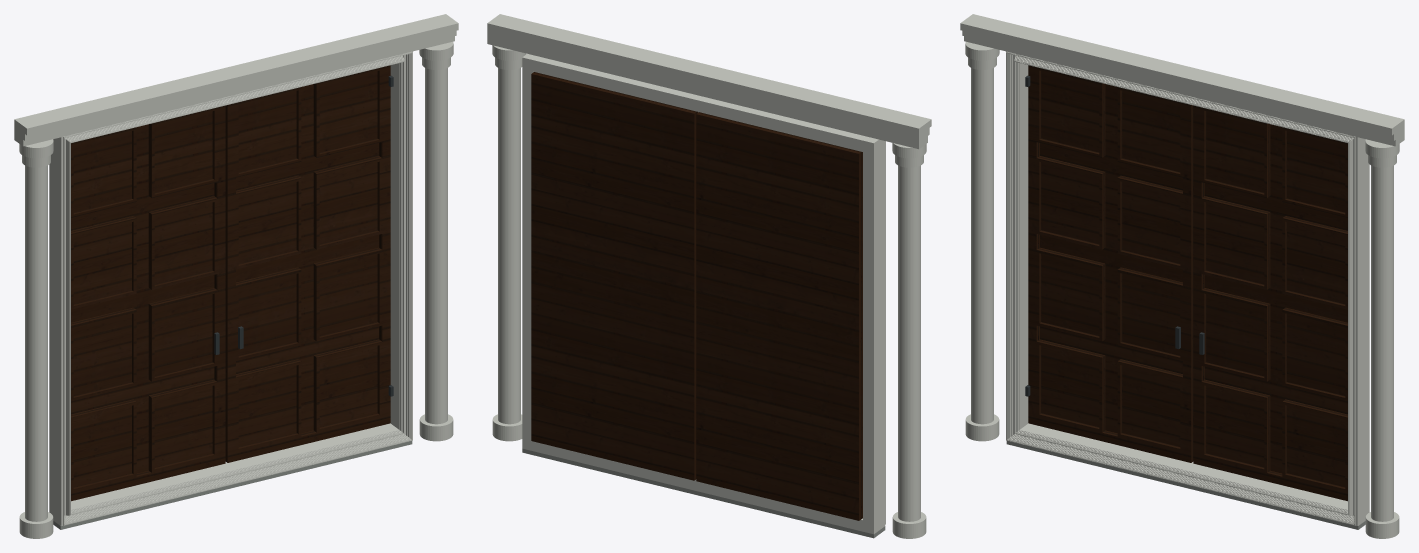
Rendered from barroco_rectangle_porton.glb.
3 renders of one model, left to right at view 1: azimuth 30°, elevation 25°; view 2: azimuth 150°, elevation 25°; view 3: azimuth 330°, elevation 25°, orthographic.
Visible parts, largest first — view 1: door_panel_back#0001, door_panel_back#0002, door_portal_cornice#0003, door_leaf_frame#0002, door_column#0002, door_column#0006, door_reveal#0001, door_leaf_frame#0001, door_coffer#0006, door_coffer#0007, door_coffer#0014, door_coffer#0015 (+92 smaller); view 2: door_panel_back#0001, door_panel_back#0002, door_reveal#0001, door_leaf_frame#0001, door_leaf_frame#0002, door_portal_cornice#0003, door_column#0002, door_column#0006, door_portal_cornice#0002, door_portal_cornice#0001, door_moulding#0096, door_threshold#0001 (+2 smaller); view 3: door_panel_back#0002, door_panel_back#0001, door_portal_cornice#0003, door_leaf_frame#0001, door_column#0006, door_column#0002, door_reveal#0001, door_leaf_frame#0002, door_coffer#0010, door_coffer#0011, door_coffer#0002, door_coffer#0003 (+92 smaller).
Part boxes in pixels (<box>): door_panel_back#0001: <box>71,124,214,473</box>; door_panel_back#0002: <box>236,84,378,433</box>; door_portal_cornice#0003: <box>14,14,458,135</box>; door_leaf_frame#0002: <box>225,65,390,462</box>; door_column#0002: <box>25,165,47,521</box>; door_column#0006: <box>425,68,447,424</box>; door_reveal#0001: <box>49,64,395,521</box>; door_leaf_frame#0001: <box>71,105,225,501</box>; door_coffer#0006: <box>148,288,215,379</box>; door_coffer#0007: <box>148,196,214,288</box>; door_coffer#0014: <box>313,247,379,339</box>; door_coffer#0015: <box>313,156,379,247</box>; door_panel_back#0001: <box>704,125,850,510</box>; door_panel_back#0002: <box>539,85,685,469</box>; door_reveal#0001: <box>522,54,879,534</box>; door_leaf_frame#0001: <box>696,112,862,520</box>; door_leaf_frame#0002: <box>531,72,698,480</box>; door_portal_cornice#0003: <box>487,14,931,135</box>; door_column#0002: <box>898,165,920,521</box>; door_column#0006: <box>498,68,520,424</box>; door_portal_cornice#0002: <box>487,30,929,142</box>; door_portal_cornice#0001: <box>487,37,927,149</box>; door_moulding#0096: <box>879,139,884,530</box>; door_threshold#0001: <box>522,448,885,538</box>; door_panel_back#0002: <box>1204,124,1347,473</box>; door_panel_back#0001: <box>1040,84,1182,433</box>; door_portal_cornice#0003: <box>960,14,1404,135</box>; door_leaf_frame#0001: <box>1028,65,1193,462</box>; door_column#0006: <box>1371,165,1393,521</box>; door_column#0002: <box>971,68,993,424</box>; door_reveal#0001: <box>1023,64,1369,520</box>; door_leaf_frame#0002: <box>1193,105,1347,501</box>; door_coffer#0010: <box>1203,288,1270,379</box>; door_coffer#0011: <box>1204,196,1270,288</box>; door_coffer#0002: <box>1039,247,1105,339</box>; door_coffer#0003: <box>1039,156,1105,247</box>.
Size of the model in its own units: 3.93 by 3.62 by 0.3594.
5 materials, 1 textured.
